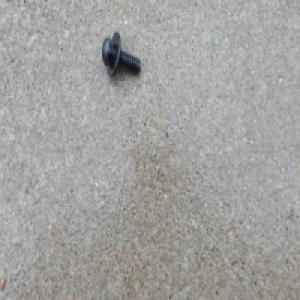BoltWasher: (101, 30, 141, 78)
